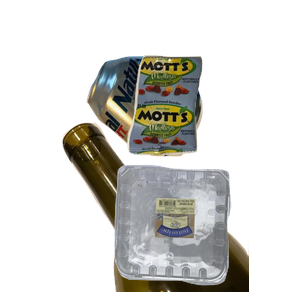glass: (60, 120, 300, 300)
metal: (84, 53, 279, 202)
plastic: (112, 162, 300, 300)
trash: (125, 53, 300, 201)
